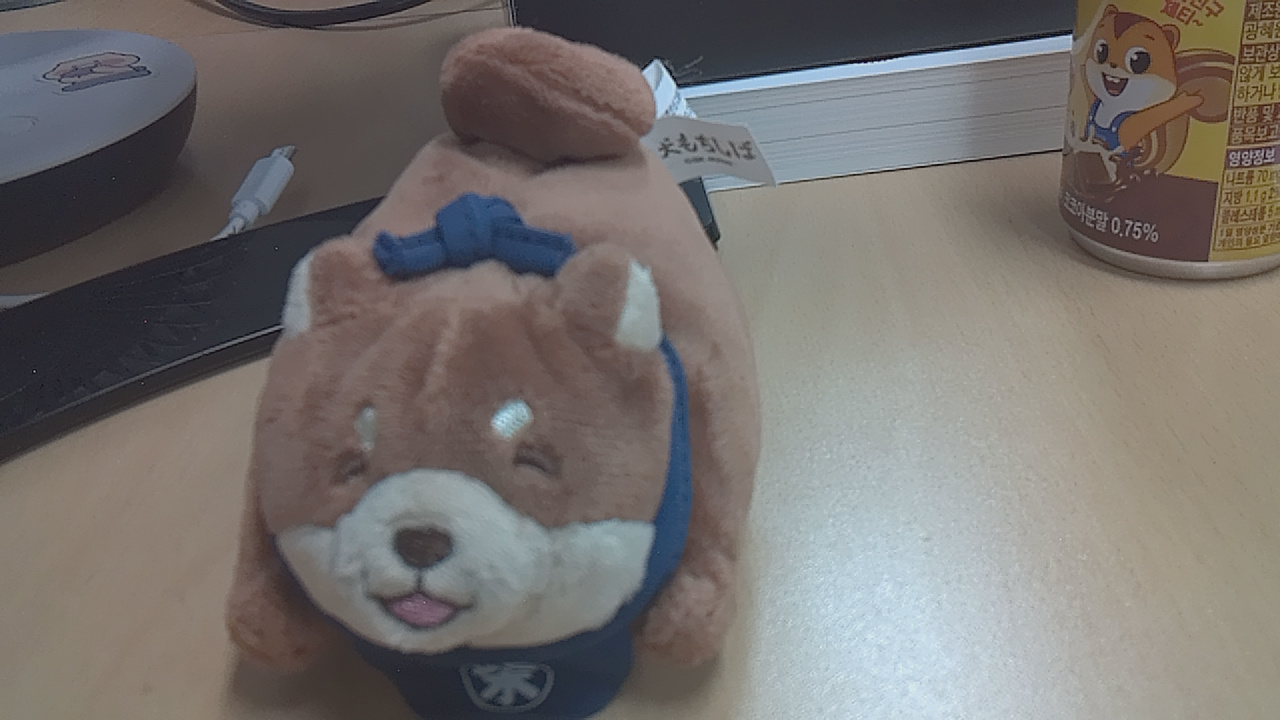cuteDog: (234, 36, 785, 720)
